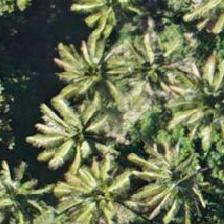coconut_tree: (19, 92, 109, 182), (37, 12, 127, 102), (107, 20, 197, 110), (121, 143, 211, 223), (55, 158, 145, 223), (158, 122, 223, 212), (0, 153, 47, 223)
